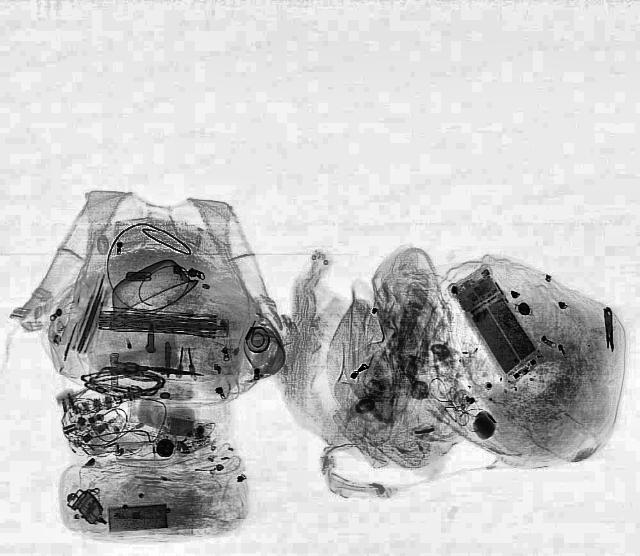Knife: (108, 358, 204, 380)
Scissors: (602, 306, 614, 348)
